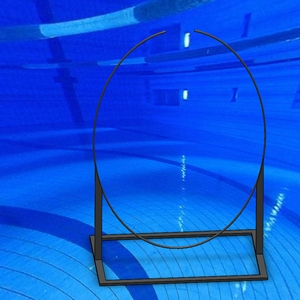circle: (88, 27, 270, 287)
